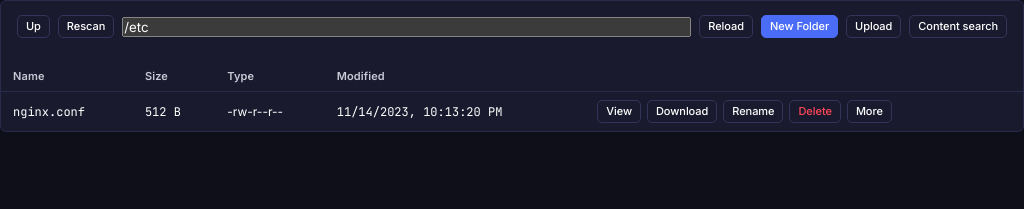
Scenario: FilesTab content search › keeps the search panel closed until it is asked for
The image size is (1024, 209).
Expected: the text "nginx.conf" is shown, [1,92,133,131]
Expected: the field with placeholder "Pattern (regex)" is not shown
Click the button "Content search".
click(958, 27)  # box [909,15,1007,38]
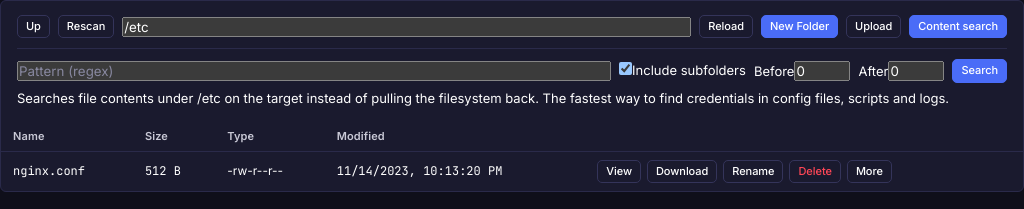
Now the field with placeholder "Pattern (regex)" is shown, box [17,61,611,81]
